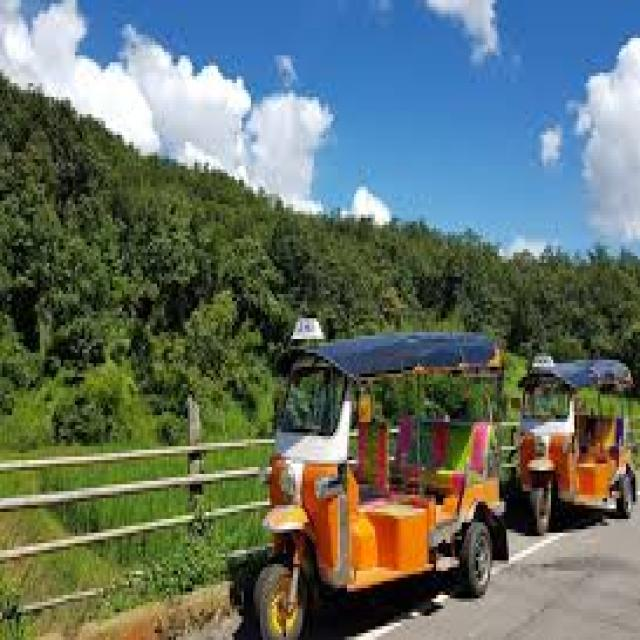tuktuk: (191, 233, 514, 640)
